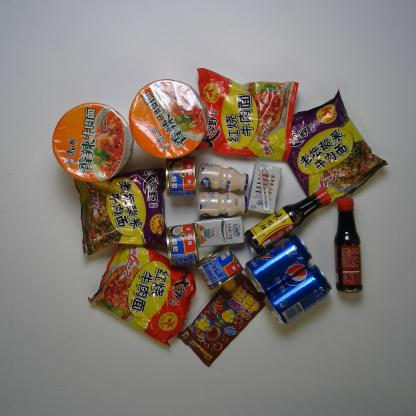Candy: (176, 272, 266, 368)
Canned Food: (195, 244, 244, 290), (165, 222, 200, 267), (165, 156, 197, 197)
Drink: (262, 264, 333, 326), (244, 233, 313, 295)
Instant Noodles: (287, 88, 389, 209), (87, 243, 197, 348), (195, 68, 299, 162), (74, 166, 167, 256), (52, 102, 134, 183), (128, 78, 209, 160)
Milk: (248, 163, 282, 215), (194, 215, 245, 248), (197, 162, 249, 192), (196, 191, 248, 217)
Seasoner: (244, 187, 332, 254), (334, 197, 363, 294)
